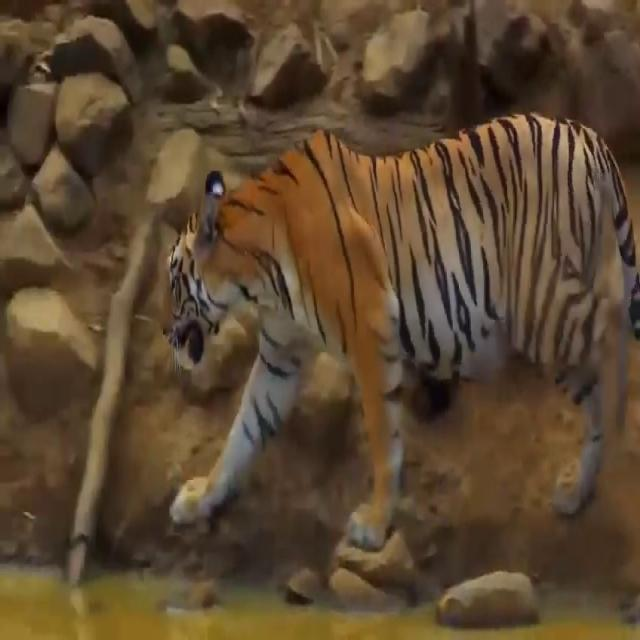tiger: (160, 115, 640, 548)
